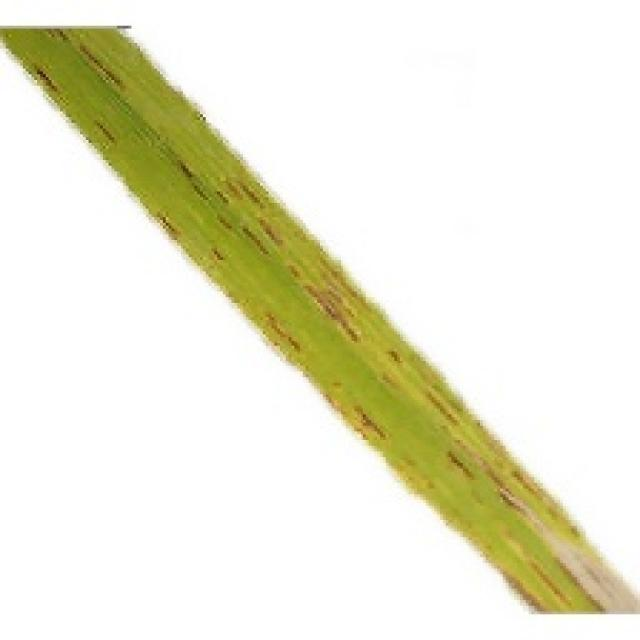Unhealthy: (454, 436, 640, 615), (285, 251, 378, 348), (501, 526, 577, 614), (478, 544, 558, 614), (511, 468, 581, 538), (320, 389, 390, 443), (75, 42, 133, 92), (382, 448, 435, 496), (262, 310, 306, 355), (419, 383, 463, 427), (473, 420, 511, 468), (239, 223, 276, 263), (255, 216, 288, 254), (444, 449, 477, 481), (236, 179, 266, 212), (31, 65, 62, 96), (416, 361, 447, 388), (155, 211, 182, 240), (92, 118, 117, 144), (226, 181, 247, 207), (41, 27, 73, 43), (380, 370, 401, 391), (191, 182, 211, 203), (216, 212, 235, 233), (385, 350, 406, 369), (175, 161, 195, 180), (210, 246, 228, 265), (214, 187, 234, 204), (293, 225, 310, 244), (331, 379, 344, 390)
